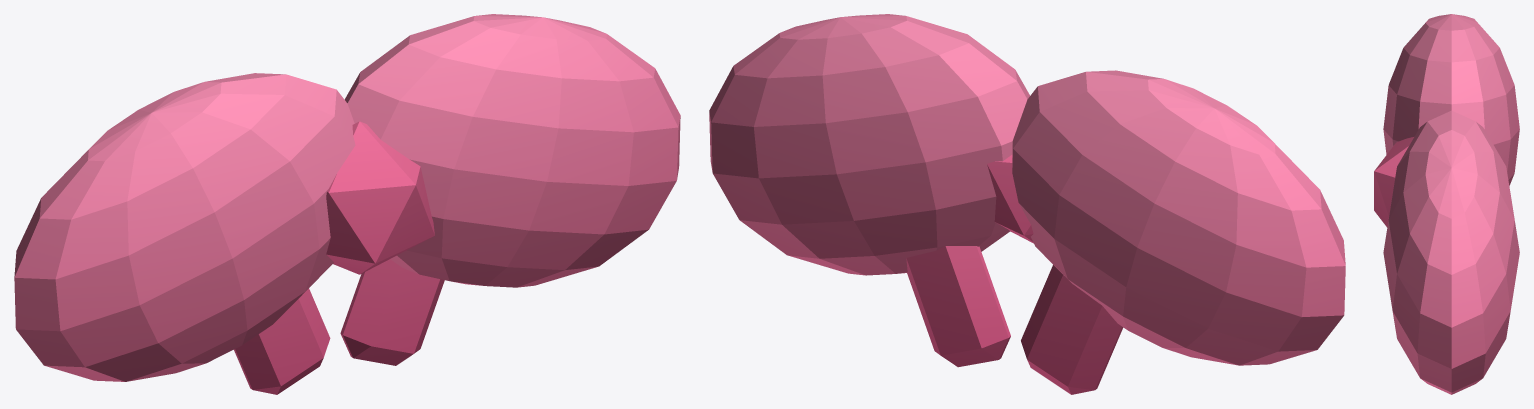
Rendered from bow.glb.
3 views of the same model, side by side, from view 1: azimuth 30°, elevation 25°; view 2: azimuth 150°, elevation 25°; view 3: azimuth 270°, elevation 25° (orthographic). The views are drawn at different scales.
Parts seen in each view (by area): view 1: bow_knot; view 2: bow_knot; view 3: bow_knot.
Part boxes in pixels (x1,y1,x2,y2): bow_knot: [14, 14, 680, 394]; bow_knot: [709, 14, 1345, 394]; bow_knot: [1374, 14, 1519, 394].
Bounding box in the file's own units: 0.6357 × 0.3069 × 0.1495.
1 material, 1 textured.
